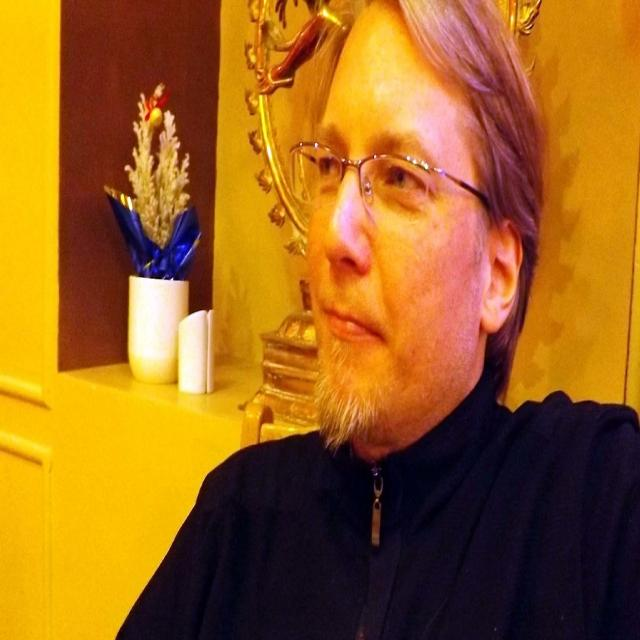Glasses: (280, 117, 490, 225)
